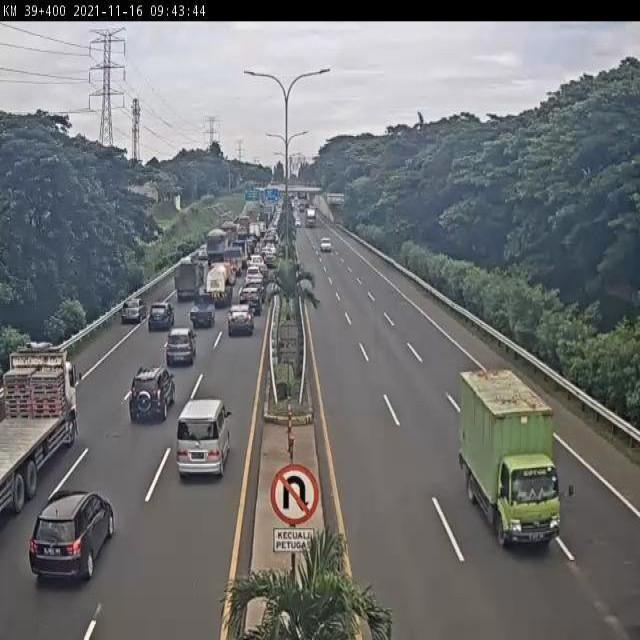car: (29, 489, 114, 582), (176, 397, 231, 479), (128, 367, 176, 421), (165, 330, 197, 370), (228, 304, 255, 340), (190, 295, 216, 329), (148, 302, 174, 334), (121, 298, 149, 322), (240, 288, 262, 315), (246, 281, 266, 303), (246, 265, 264, 284), (248, 254, 264, 266), (320, 237, 332, 252), (294, 217, 301, 227)
small truck: (224, 248, 243, 276)
truck-l-: (0, 349, 78, 512), (206, 230, 228, 266), (306, 208, 316, 227)
truck-m-: (460, 370, 562, 550), (173, 261, 204, 304), (206, 261, 234, 307)
